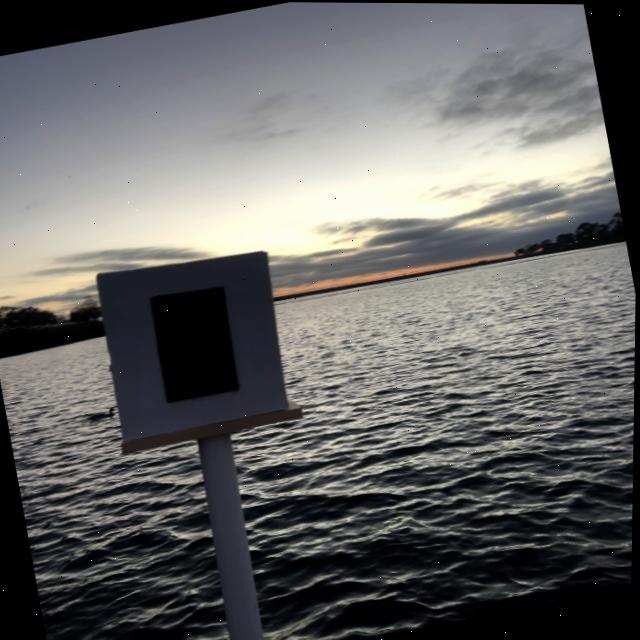led: (107, 244, 288, 432)
